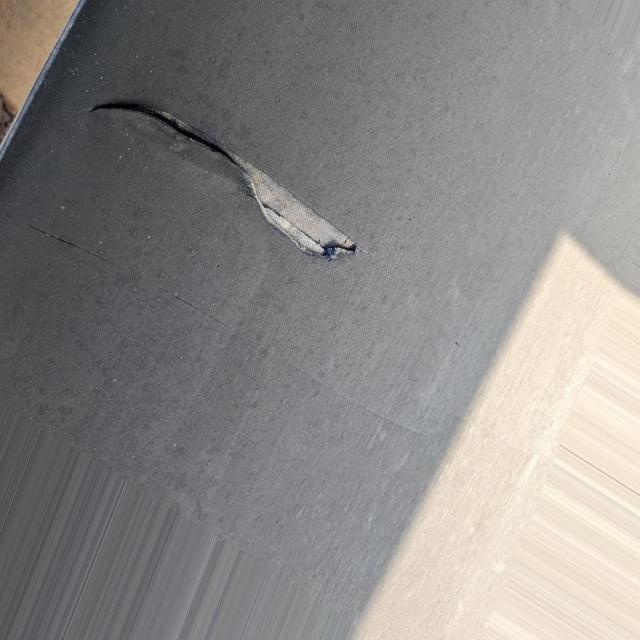Tear: (76, 97, 364, 266)
